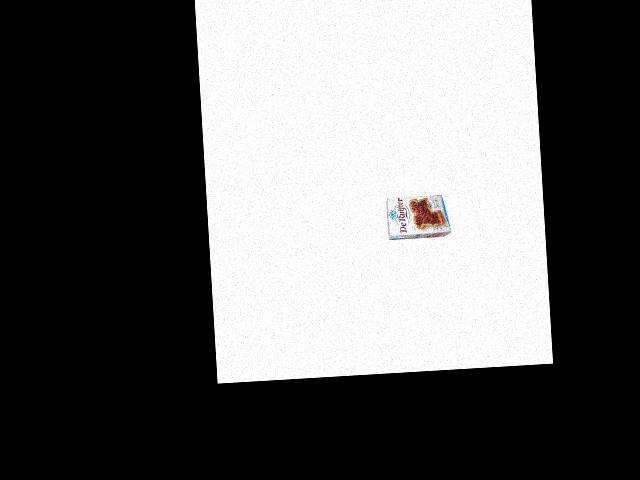chocolate: (382, 188, 450, 246)
